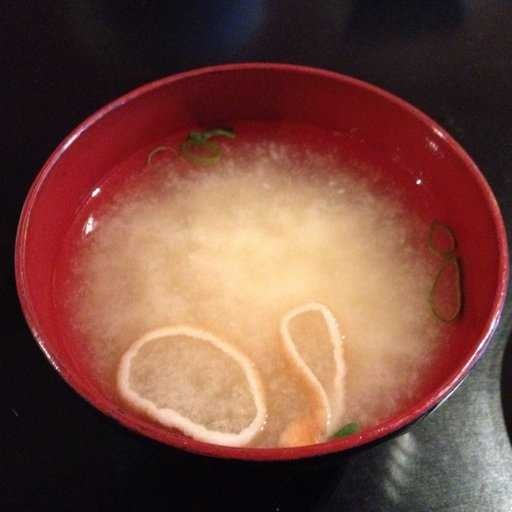soup: (69, 93, 461, 437)
